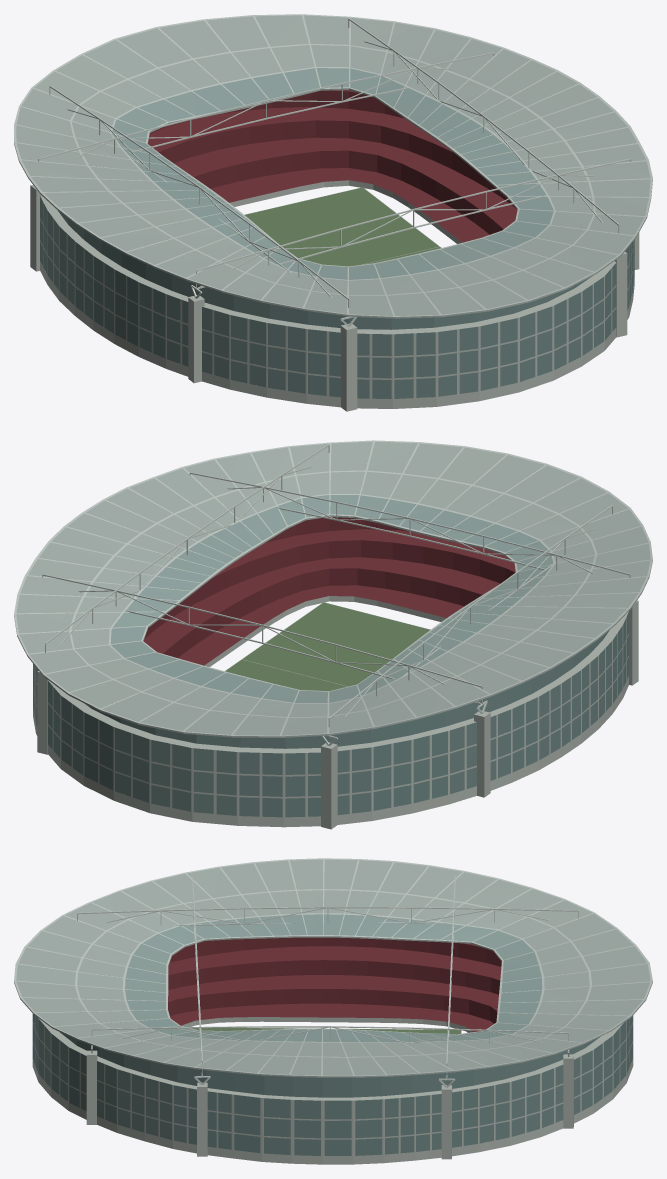
Rendered from emirates-stadium-far.glb.
3 renders of one model, top to bottom at view 1: azimuth 30°, elevation 25°; view 2: azimuth 150°, elevation 25°; view 3: azimuth 270°, elevation 25°, orthographic. The views are drawn at different scales.
Visible parts, largest first — view 1: emirates-stadium-0-roof, emirates-stadium-0-glass, emirates-stadium-0-seats, emirates-stadium-0-steel, emirates-stadium-0-stone, emirates-stadium-0-roofglass, emirates-stadium-0-pitch; view 2: emirates-stadium-0-roof, emirates-stadium-0-glass, emirates-stadium-0-seats, emirates-stadium-0-steel, emirates-stadium-0-stone, emirates-stadium-0-roofglass, emirates-stadium-0-pitch; view 3: emirates-stadium-0-roof, emirates-stadium-0-glass, emirates-stadium-0-seats, emirates-stadium-0-stone, emirates-stadium-0-steel, emirates-stadium-0-roofglass, emirates-stadium-0-pitch.
Boxes of the visible parts, left/top/right/bottom form: emirates-stadium-0-roof: left=14, top=15, right=652, bottom=318; emirates-stadium-0-glass: left=40, top=196, right=634, bottom=398; emirates-stadium-0-seats: left=148, top=90, right=517, bottom=242; emirates-stadium-0-steel: left=14, top=14, right=652, bottom=326; emirates-stadium-0-stone: left=30, top=180, right=639, bottom=411; emirates-stadium-0-roofglass: left=112, top=68, right=553, bottom=279; emirates-stadium-0-pitch: left=245, top=187, right=440, bottom=266; emirates-stadium-0-roof: left=14, top=441, right=652, bottom=737; emirates-stadium-0-glass: left=33, top=612, right=628, bottom=817; emirates-stadium-0-seats: left=143, top=517, right=515, bottom=665; emirates-stadium-0-steel: left=14, top=440, right=652, bottom=745; emirates-stadium-0-stone: left=33, top=596, right=638, bottom=829; emirates-stadium-0-roofglass: left=110, top=495, right=553, bottom=702; emirates-stadium-0-pitch: left=225, top=602, right=430, bottom=690; emirates-stadium-0-roof: left=14, top=859, right=652, bottom=1077; emirates-stadium-0-glass: left=32, top=1014, right=632, bottom=1155; emirates-stadium-0-seats: left=168, top=937, right=501, bottom=1031; emirates-stadium-0-stone: left=32, top=1015, right=633, bottom=1164; emirates-stadium-0-steel: left=14, top=858, right=652, bottom=1087; emirates-stadium-0-roofglass: left=125, top=914, right=542, bottom=1042; emirates-stadium-0-pitch: left=191, top=1028, right=461, bottom=1034.
Bounding box in the file's own units: 198 × 41.51 × 245.
